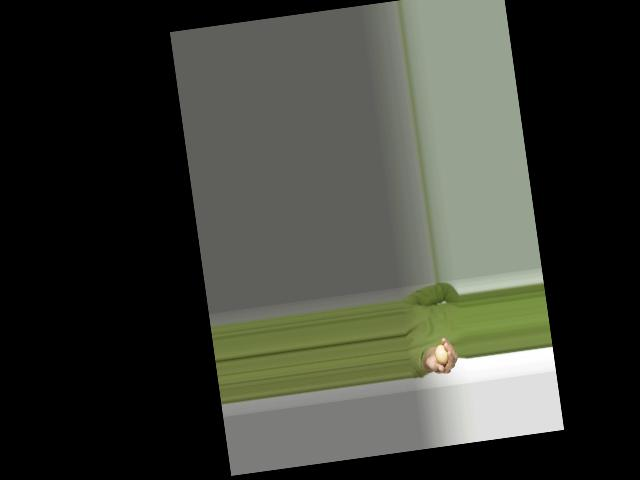egg: (434, 343, 449, 365)
